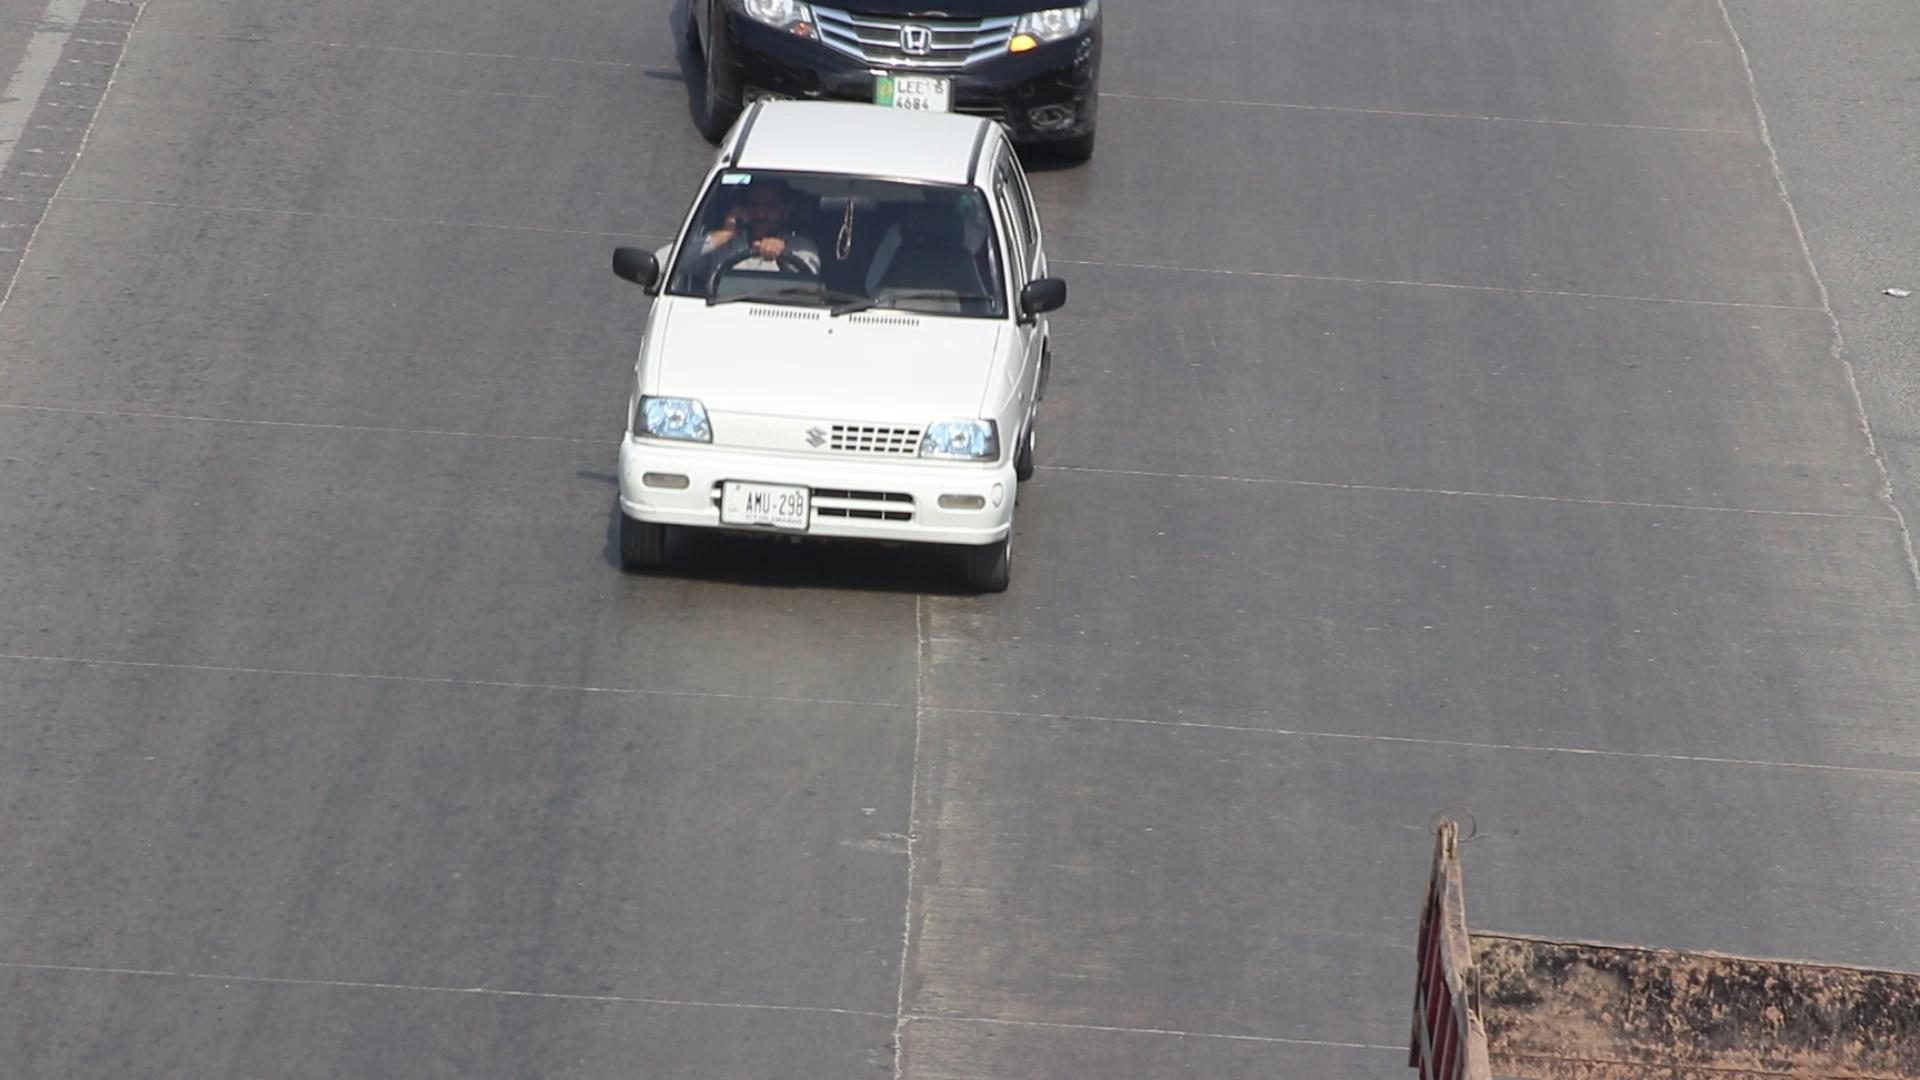windshield: (661, 137, 1010, 330)
